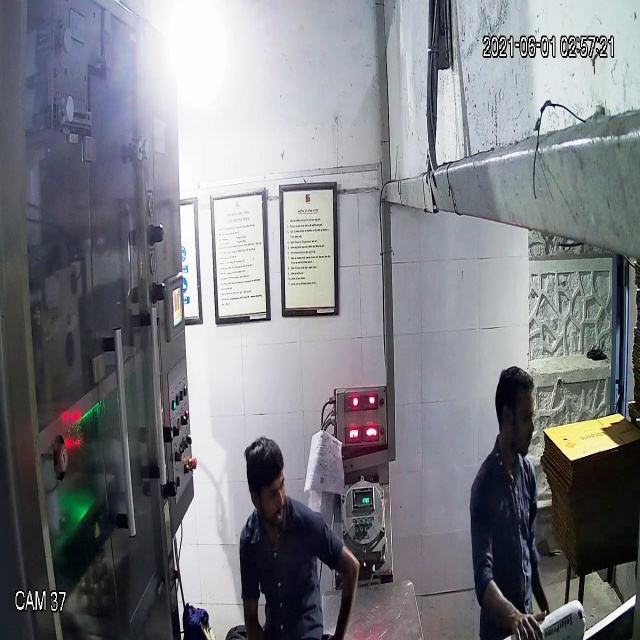Sin_gafas: (247, 476, 292, 509)
